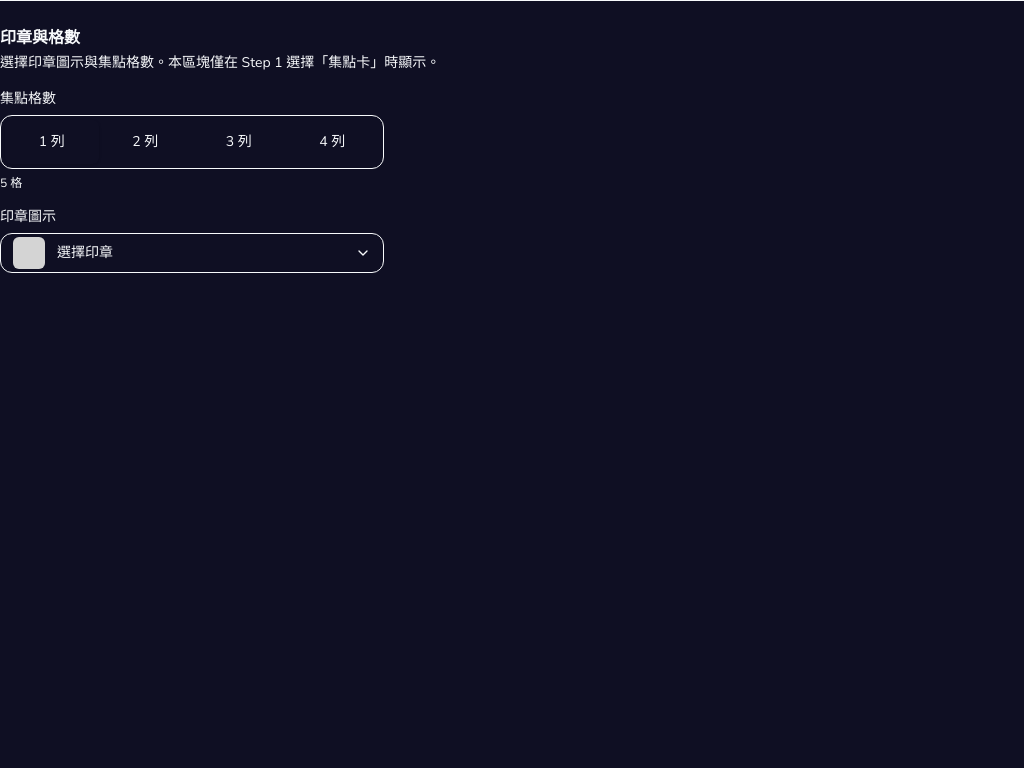
it: Step3StampGrid — StampIconPicker (desktop) › writes stampIconId and closes popover when an icon is picked (DESKTOP)
Click the button "選擇印章".
click(29, 253)  # box left=0, top=233, right=384, bottom=273
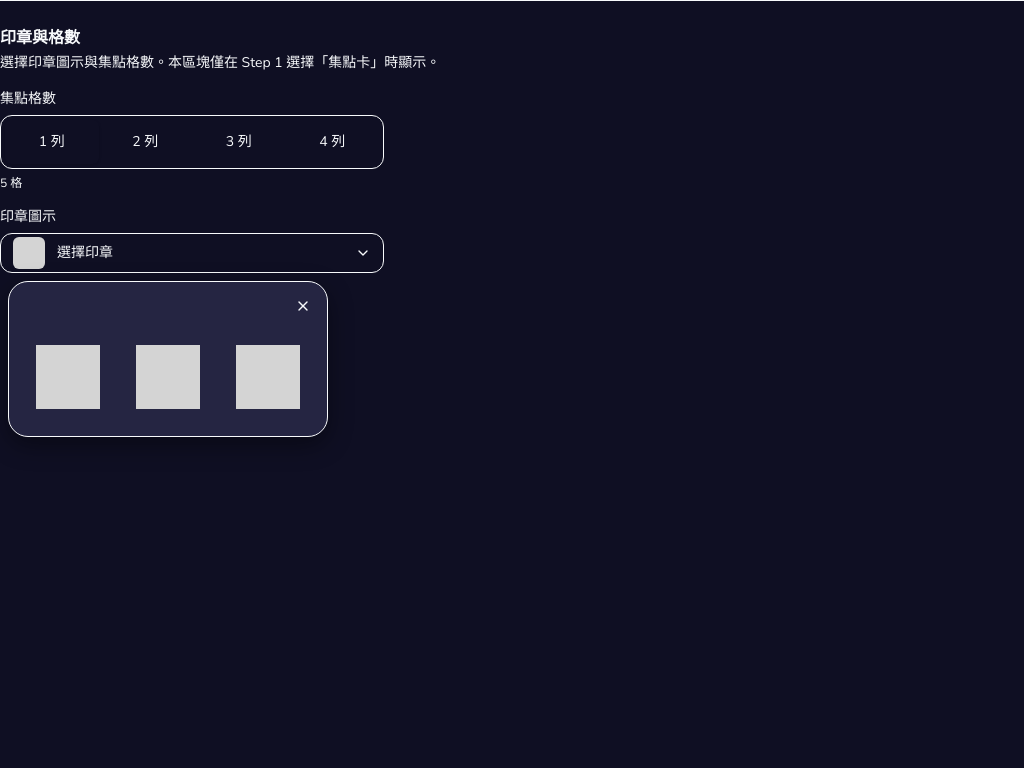
Expected: the dialog is shown, left=8, top=281, right=328, bottom=437
Expected: the radio button named "鈴鐺" is shown
Click the radio button named "鈴鐺".
click(68, 377)  # box left=21, top=330, right=115, bottom=424
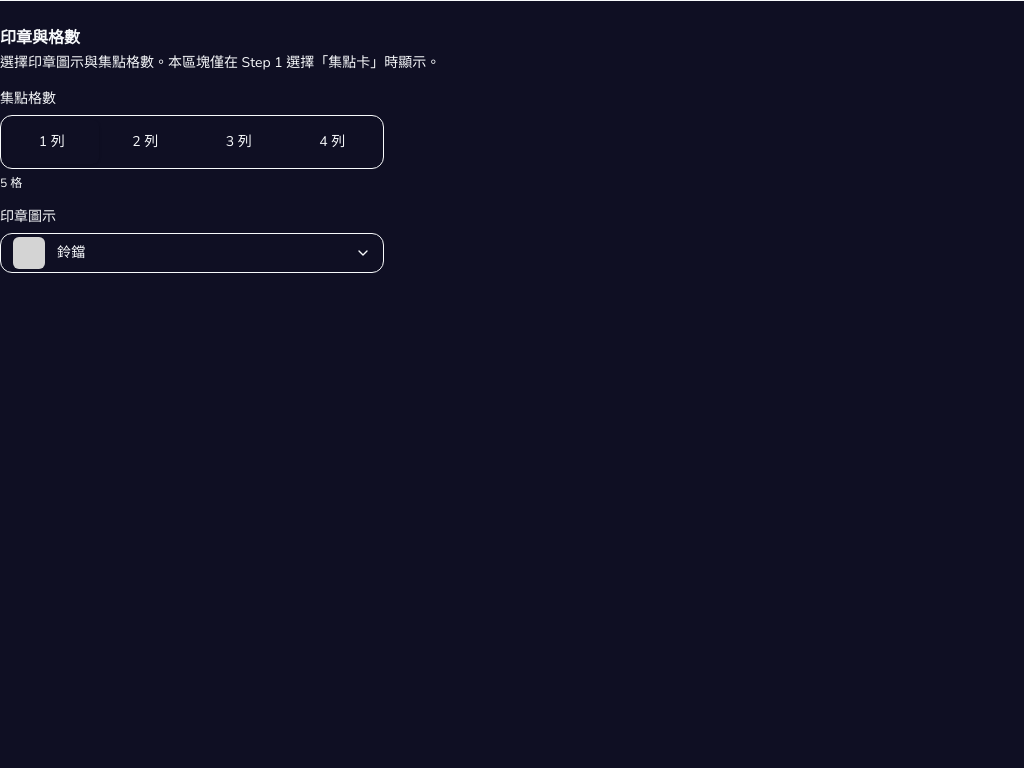
Expected: the dialog is gone
